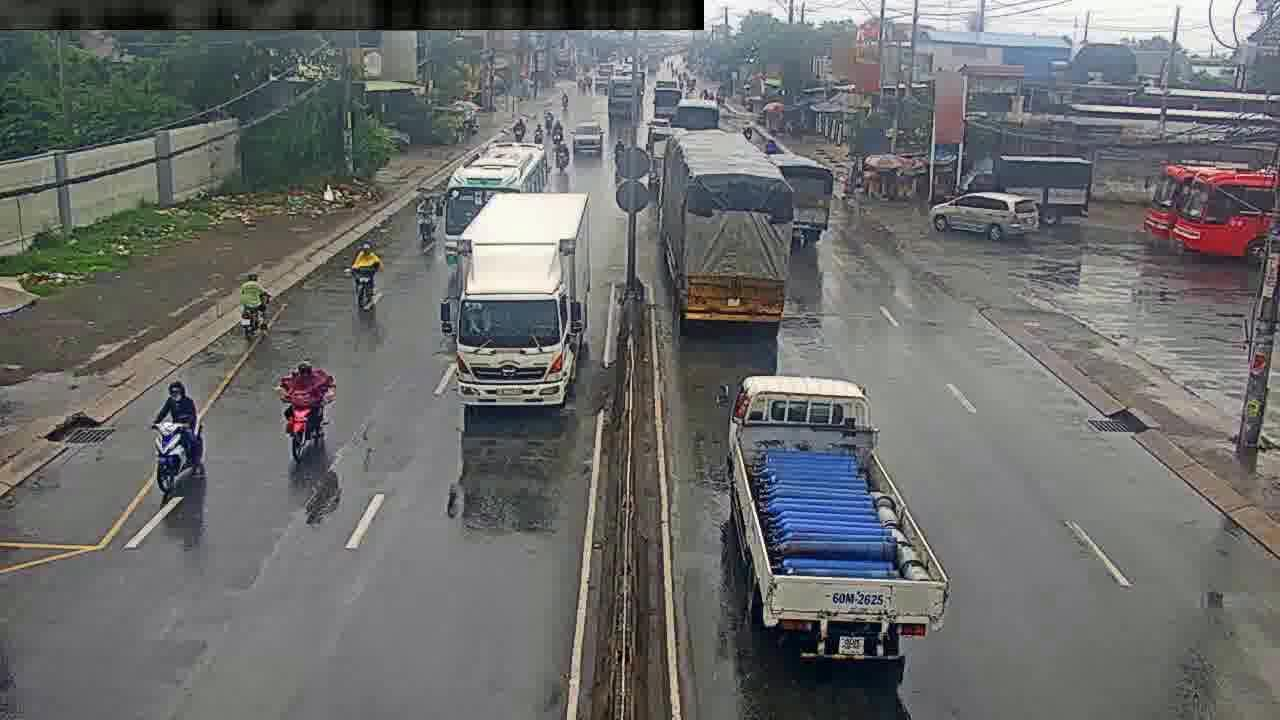14: (445, 141, 546, 260)
8: (721, 378, 949, 663), (456, 190, 589, 412), (651, 132, 794, 331), (770, 149, 833, 242)
container: (567, 118, 608, 155)
motorbike: (151, 395, 202, 509), (283, 357, 329, 466), (351, 238, 380, 308), (241, 274, 269, 346), (417, 198, 437, 244)
